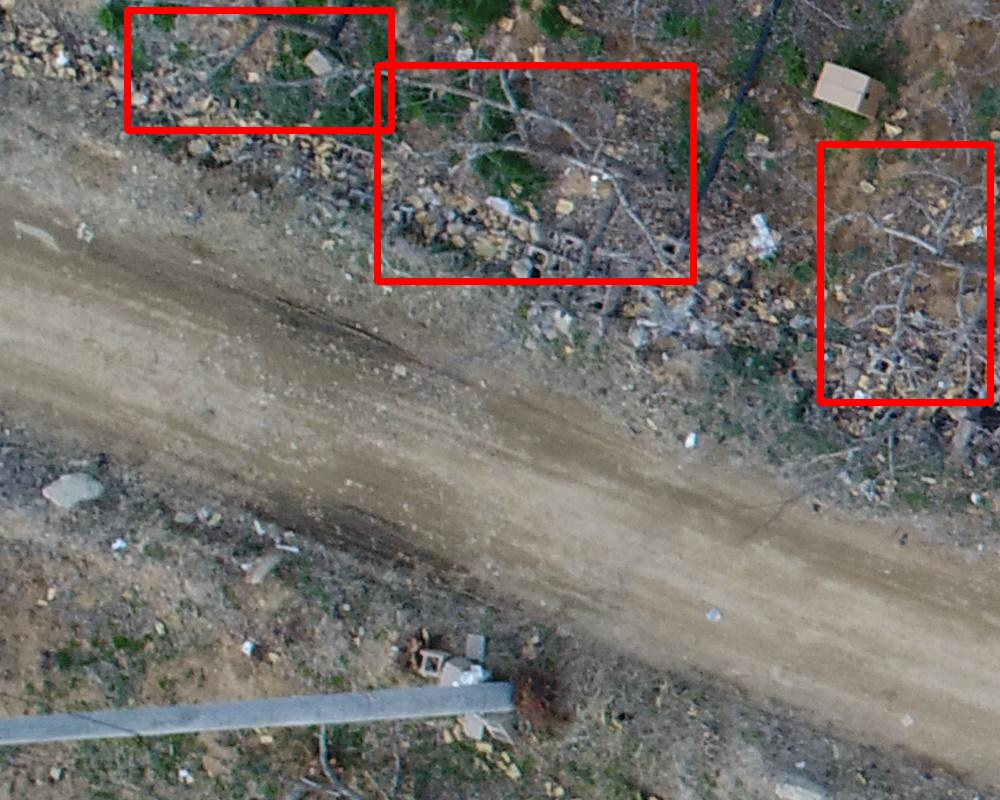apple: (377, 65, 693, 281), (820, 144, 990, 402), (127, 10, 391, 130)
